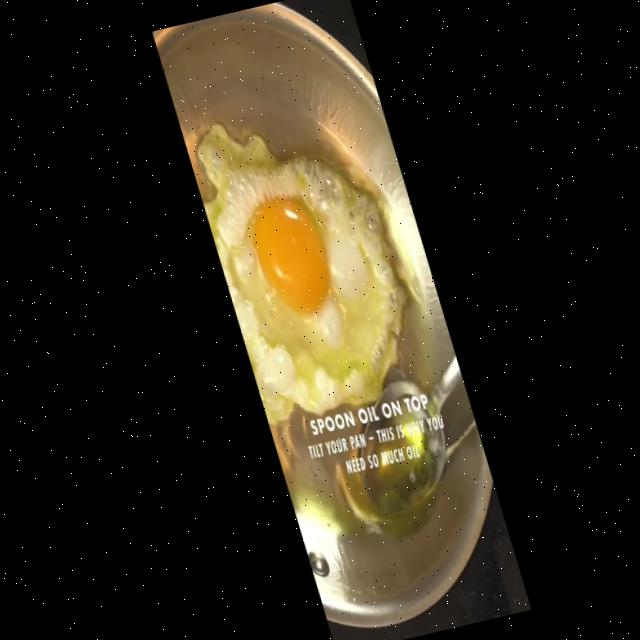Egg: (196, 124, 401, 424)
